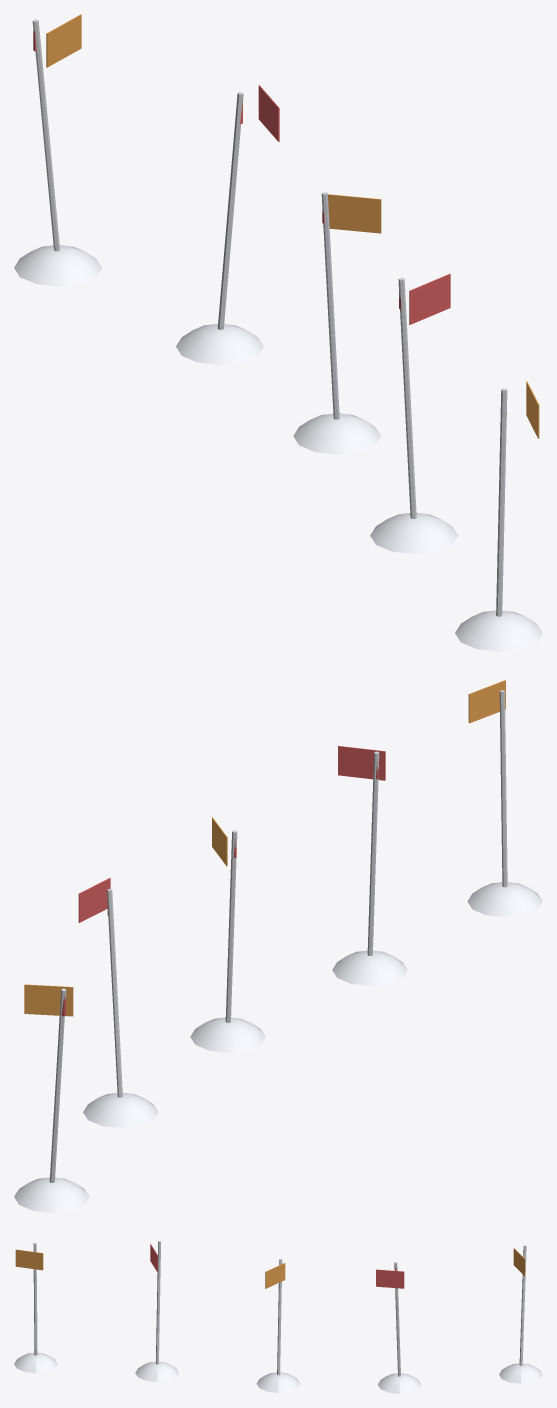
File: wand-3.glb
The picture shows the model from 3 angles, top to bottom: view 1: azimuth 30°, elevation 25°; view 2: azimuth 150°, elevation 25°; view 3: azimuth 270°, elevation 25°; orthographic projection. The views are drawn at different scales.
Visible parts, largest first — view 1: route-marker-wand-line; view 2: route-marker-wand-line; view 3: route-marker-wand-line.
Part boxes in pixels (x1=…): route-marker-wand-line: x1=14, y1=14, x2=542, y2=651; route-marker-wand-line: x1=14, y1=680, x2=542, y2=1212; route-marker-wand-line: x1=14, y1=1241, x2=542, y2=1393.
Bounding box in the file's own units: 0.8751 × 1.29 × 4.8.
